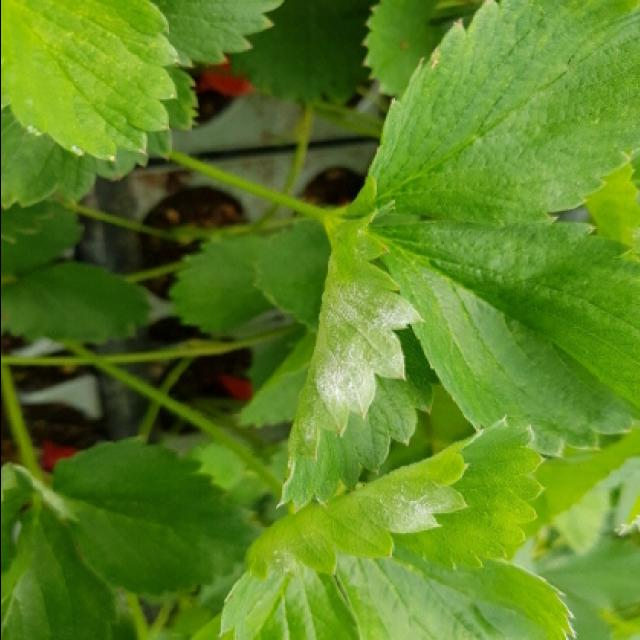Powdery Mildew Leaf: (275, 206, 442, 513), (241, 412, 543, 581), (2, 0, 182, 161)
